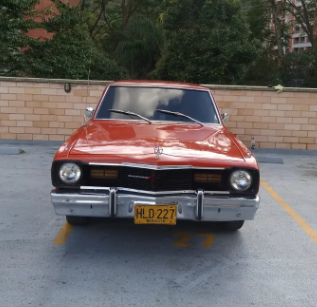placa: (134, 203, 178, 228)
